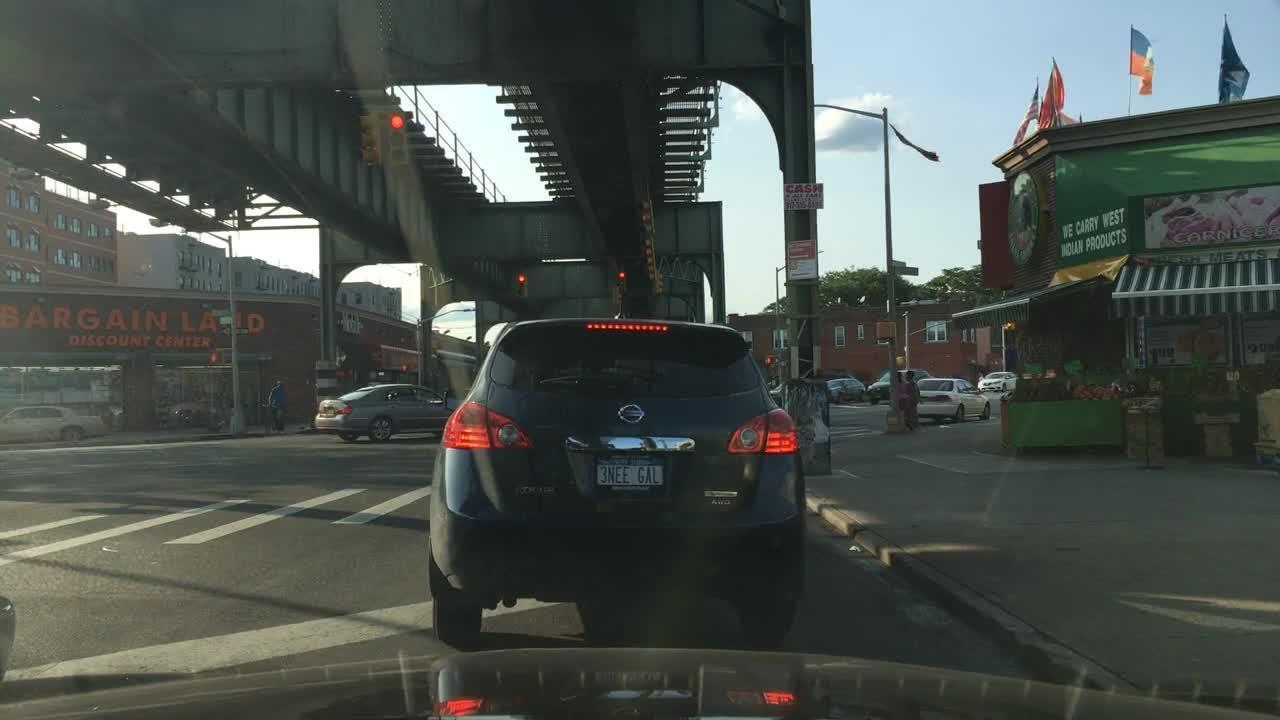Nissan: (614, 399, 647, 431)
